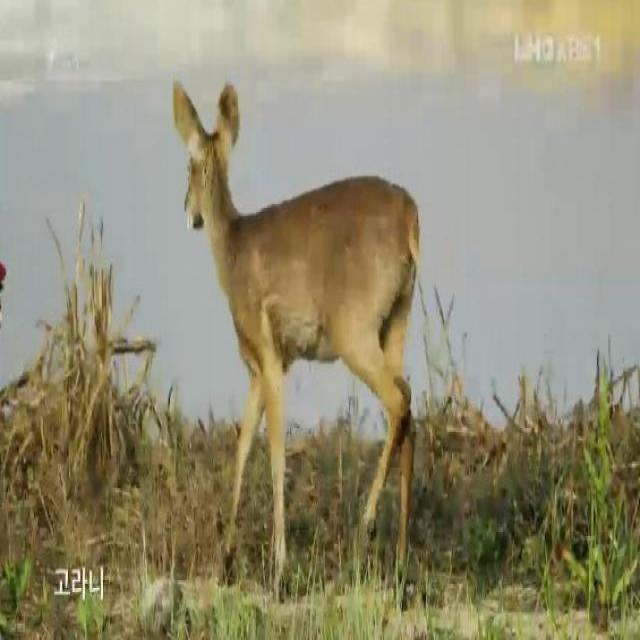deer: (163, 65, 436, 596)
